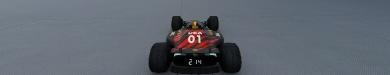Car: (148, 15, 242, 74)
grass: (0, 0, 389, 74)
